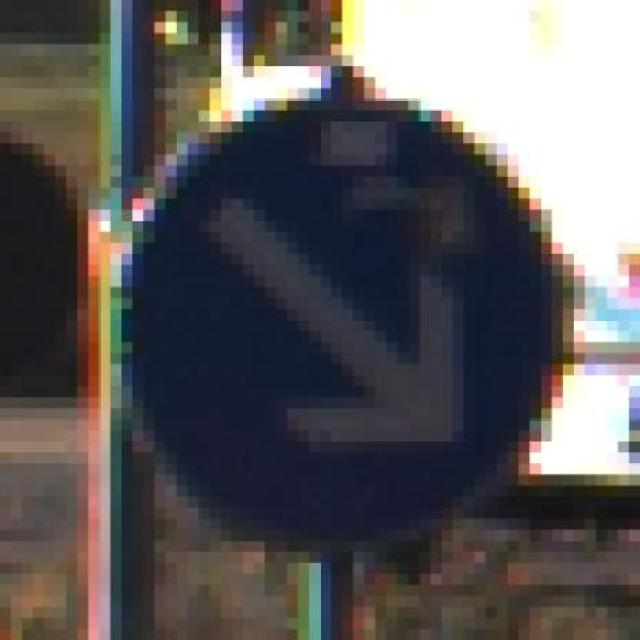Keep-Right: (78, 66, 596, 596)
